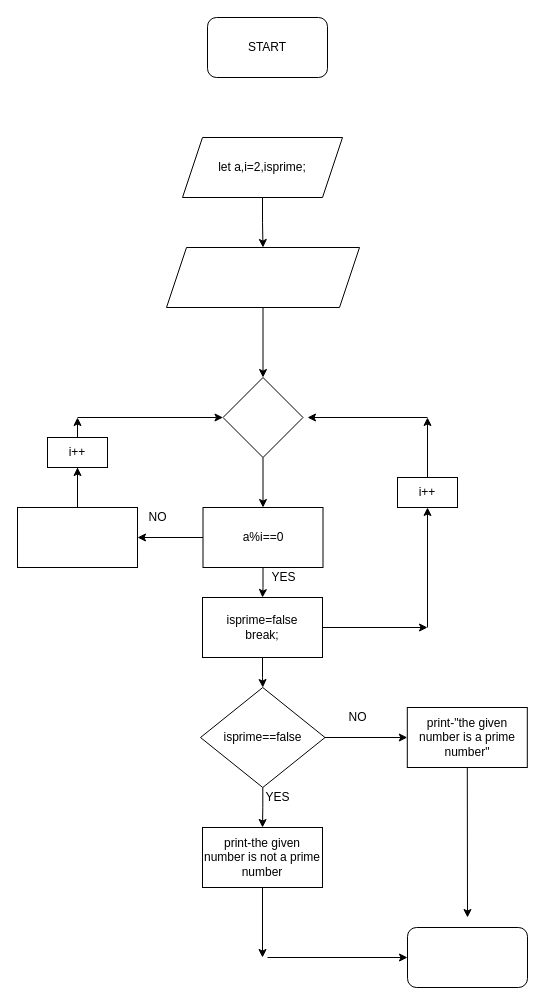
The diagram is 545 pixels wide and 1005 high, and some of its shapes have lost their labels. The centre of each missing label's shape, as x and y in pixels:
END: the point at 467,957
i<=a/2: the point at 262,417
isprime=true: the point at 77,537
Take the value of a from the user: the point at 263,277
